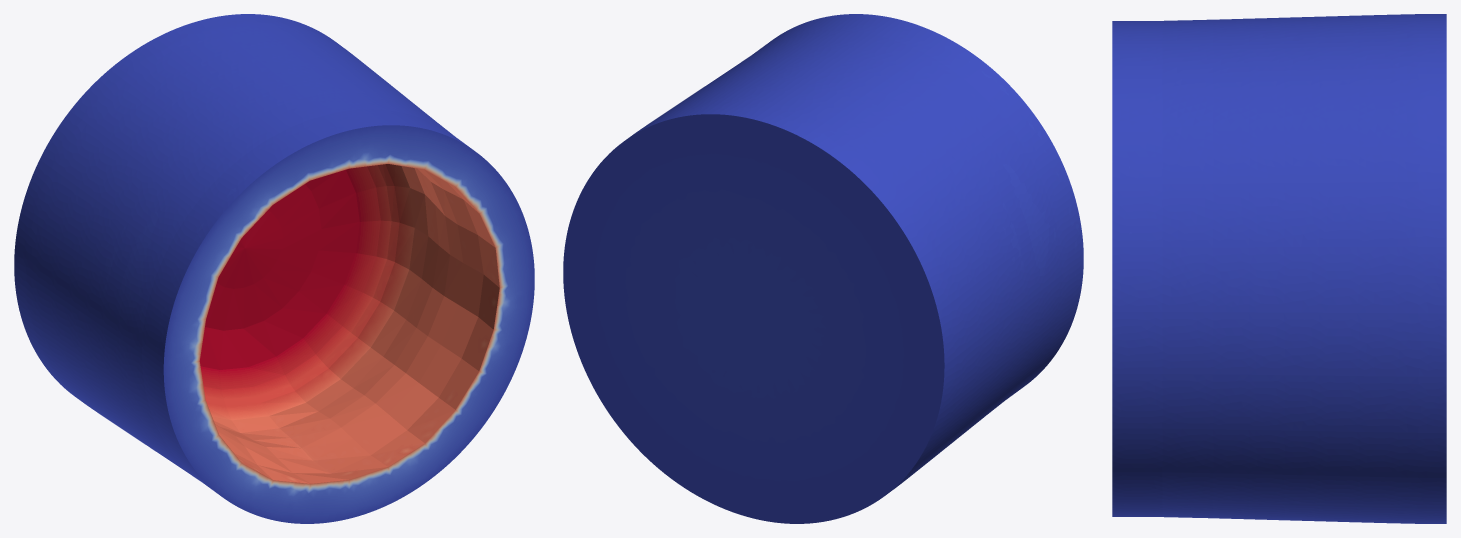
The model's file is full.glb.
3 renders of one model, left to right at view 1: azimuth 30°, elevation 25°; view 2: azimuth 150°, elevation 25°; view 3: azimuth 270°, elevation 25°, orthographic. The views are drawn at different scales.
Visible parts, largest first — view 1: Renderer Node; view 2: Renderer Node; view 3: Renderer Node.
Boxes of the visible parts, left/top/right/bottom form: Renderer Node: left=14, top=14, right=534, bottom=523; Renderer Node: left=563, top=14, right=1083, bottom=523; Renderer Node: left=1112, top=14, right=1446, bottom=523.
Size of the model in its own units: 12.46 by 12.46 by 8.17.
Materials: 1 (1 with a texture image).
